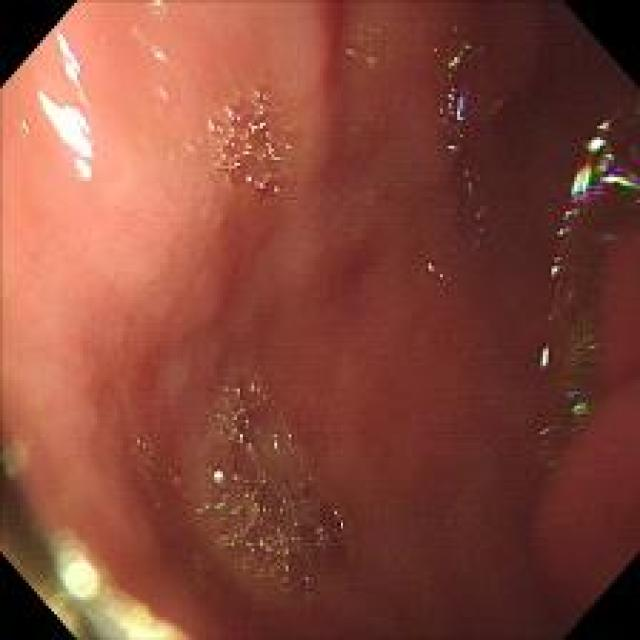bubbles: (205, 372, 352, 588), (208, 84, 291, 215), (132, 28, 164, 60), (130, 431, 152, 458), (14, 112, 32, 138), (98, 29, 118, 49)
color misalignment: (1, 461, 178, 639), (558, 120, 630, 280), (438, 40, 484, 258), (538, 292, 594, 456), (489, 94, 508, 116), (425, 260, 444, 280)
specularity: (36, 91, 94, 180), (54, 30, 96, 105), (588, 135, 602, 150), (210, 468, 224, 480), (540, 348, 548, 366)
